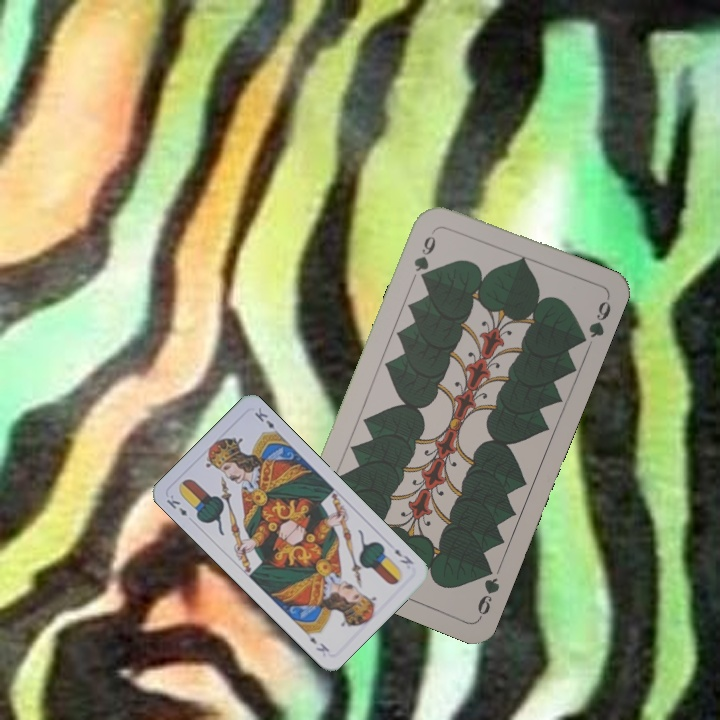EK: (162, 491, 190, 519), (390, 545, 416, 567)
G9: (473, 560, 502, 620), (410, 225, 439, 284)
